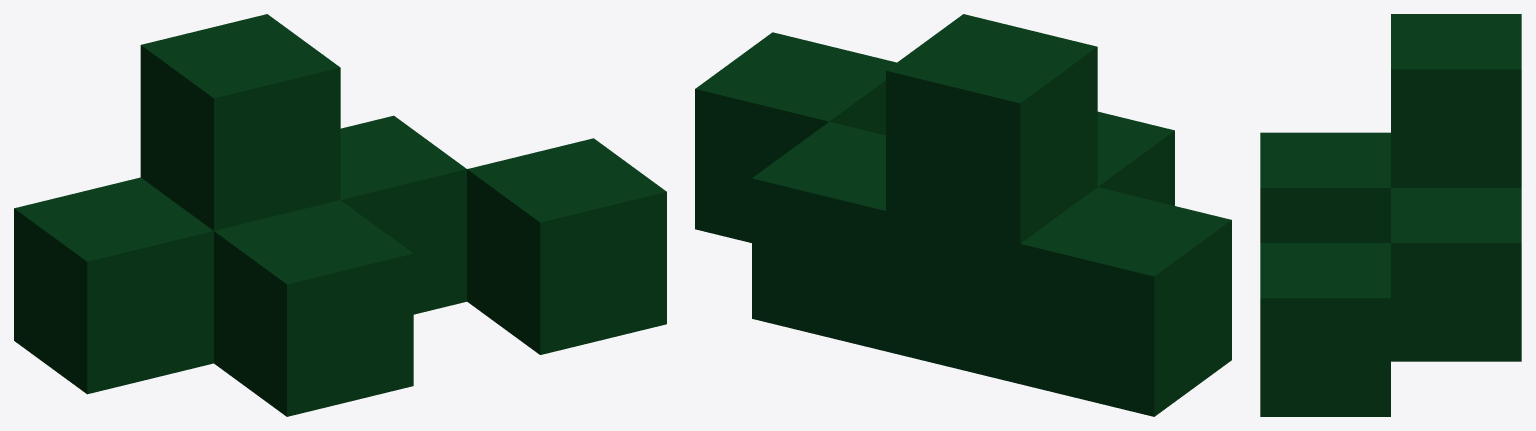
Rendered from GrassPiece4.fbx.
3 renders of one model, left to right at view 1: azimuth 30°, elevation 25°; view 2: azimuth 150°, elevation 25°; view 3: azimuth 270°, elevation 25°, orthographic. The views are drawn at different scales.
Parts seen in each view (by area): view 1: Matrix_Piece1_0_0_Piece1_0_0; view 2: Matrix_Piece1_0_0_Piece1_0_0; view 3: Matrix_Piece1_0_0_Piece1_0_0.
Boxes of the visible parts, x1,y1,x2,y2 form: Matrix_Piece1_0_0_Piece1_0_0: (14, 14, 666, 416); Matrix_Piece1_0_0_Piece1_0_0: (695, 14, 1231, 416); Matrix_Piece1_0_0_Piece1_0_0: (1260, 14, 1521, 416).
Bounding box in the file's own units: 4 × 2 × 2.
1 material, 1 textured.
